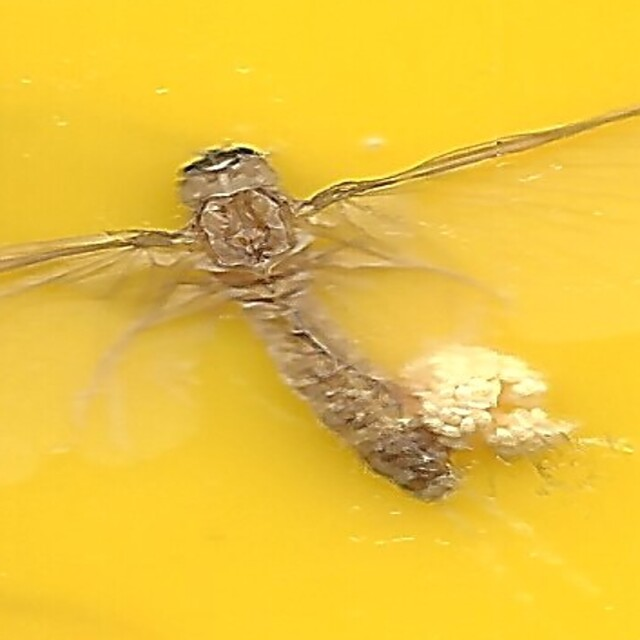Ephemeroptera: (181, 140, 459, 500)
